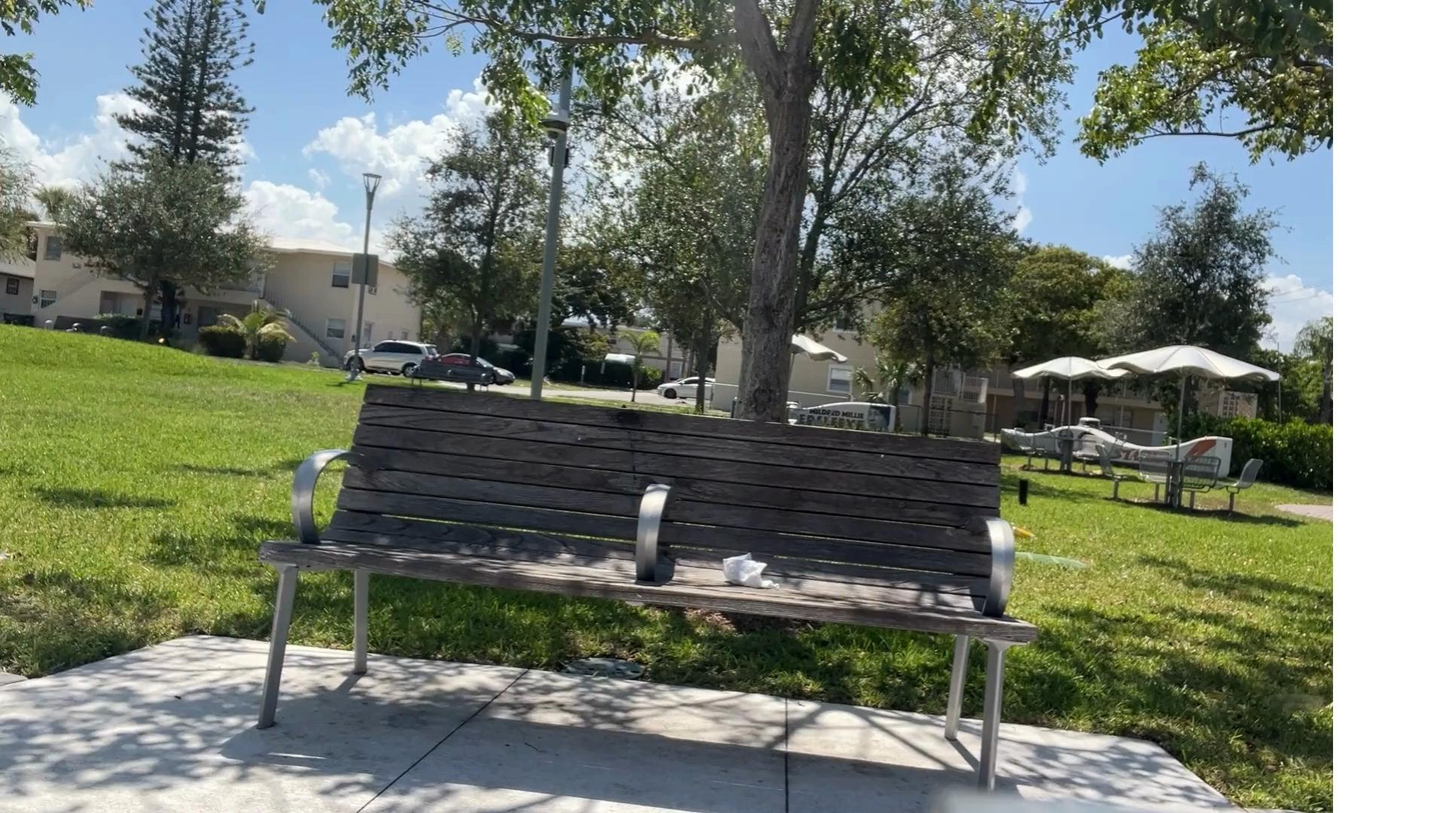Trash: (715, 546, 777, 596)
